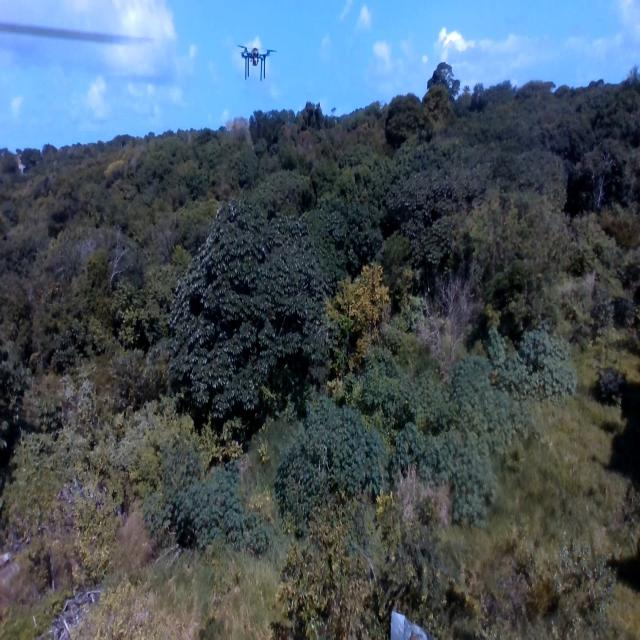-uav-: (235, 35, 279, 92)
